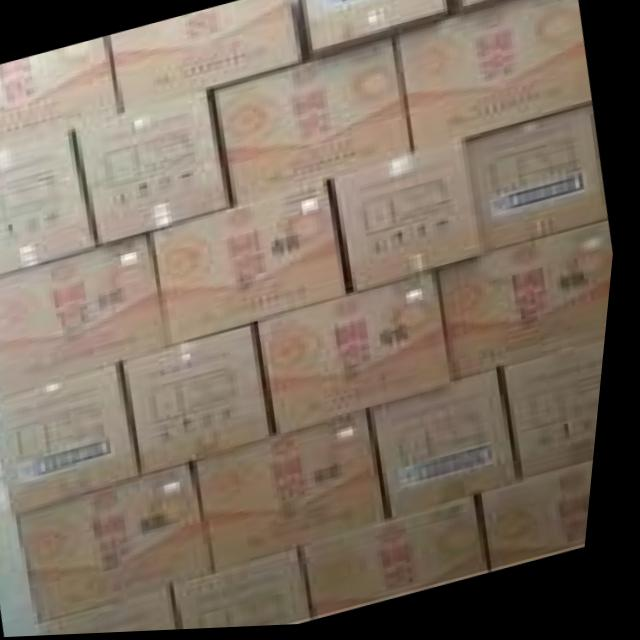box: (212, 37, 414, 210), (264, 274, 462, 437), (26, 463, 223, 624), (202, 414, 400, 574), (157, 186, 356, 345), (395, 0, 595, 158), (0, 235, 180, 397), (444, 226, 619, 385), (73, 91, 238, 248), (330, 145, 490, 298), (312, 501, 504, 624), (130, 326, 282, 475), (0, 365, 152, 514), (374, 374, 526, 523), (111, 0, 307, 114), (468, 108, 613, 258), (0, 127, 101, 280), (508, 341, 612, 488), (0, 36, 123, 148), (492, 467, 603, 576), (185, 551, 323, 632), (297, 0, 453, 63), (51, 587, 193, 636), (447, 0, 526, 20)
